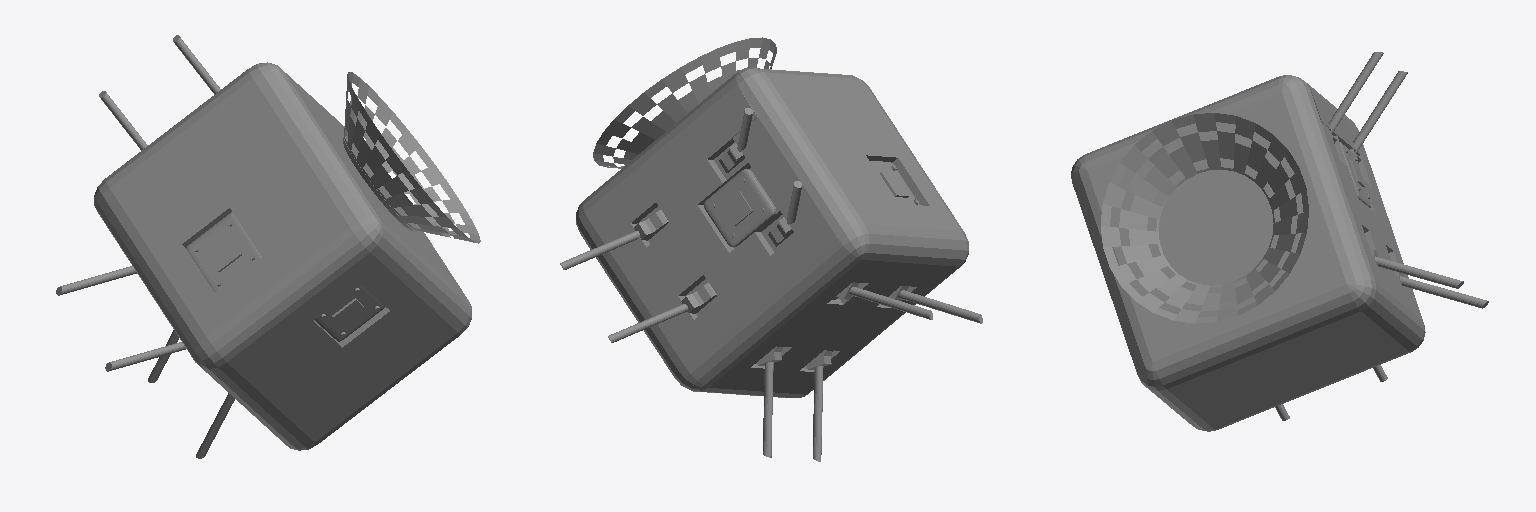
File: omid.obj
The picture shows the model from 3 angles: view 1: azimuth 30°, elevation 25°; view 2: azimuth 150°, elevation 25°; view 3: azimuth 270°, elevation 25°; orthographic projection.
Parts seen in each view (by area): view 1: Object01, Cone01, ChamferBox04, ChamferBox03, ChamferBox02, ChamferBox01; view 2: Object01, Cone01, ChamferBox03, ChamferBox01, ChamferBox05, ChamferBox04; view 3: Object01, Cone01, ChamferBox01, ChamferBox05.
Boxes of the visible parts, x1,y1,x2,y2 form: Object01: [94, 62, 471, 450]; Cone01: [343, 72, 480, 243]; ChamferBox04: [186, 212, 261, 292]; ChamferBox03: [56, 266, 234, 458]; ChamferBox02: [315, 285, 384, 341]; ChamferBox01: [99, 35, 220, 150]; Object01: [576, 68, 968, 397]; Cone01: [593, 37, 776, 168]; ChamferBox03: [756, 282, 982, 461]; ChamferBox01: [560, 108, 801, 342]; ChamferBox05: [704, 169, 776, 246]; ChamferBox04: [870, 161, 919, 204]; Object01: [1071, 75, 1425, 431]; Cone01: [1101, 113, 1308, 323]; ChamferBox01: [1329, 52, 1488, 308]; ChamferBox05: [1340, 142, 1370, 207].
Size of the model in its own units: 63 by 63.21 by 62.78.